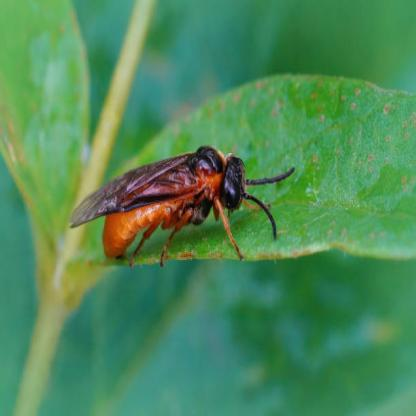sawfly: (68, 140, 295, 271)
